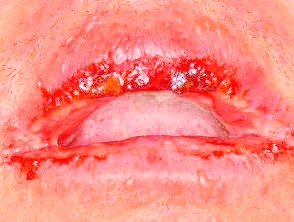SJS-TEN: (0, 0, 293, 169), (2, 139, 293, 203)
